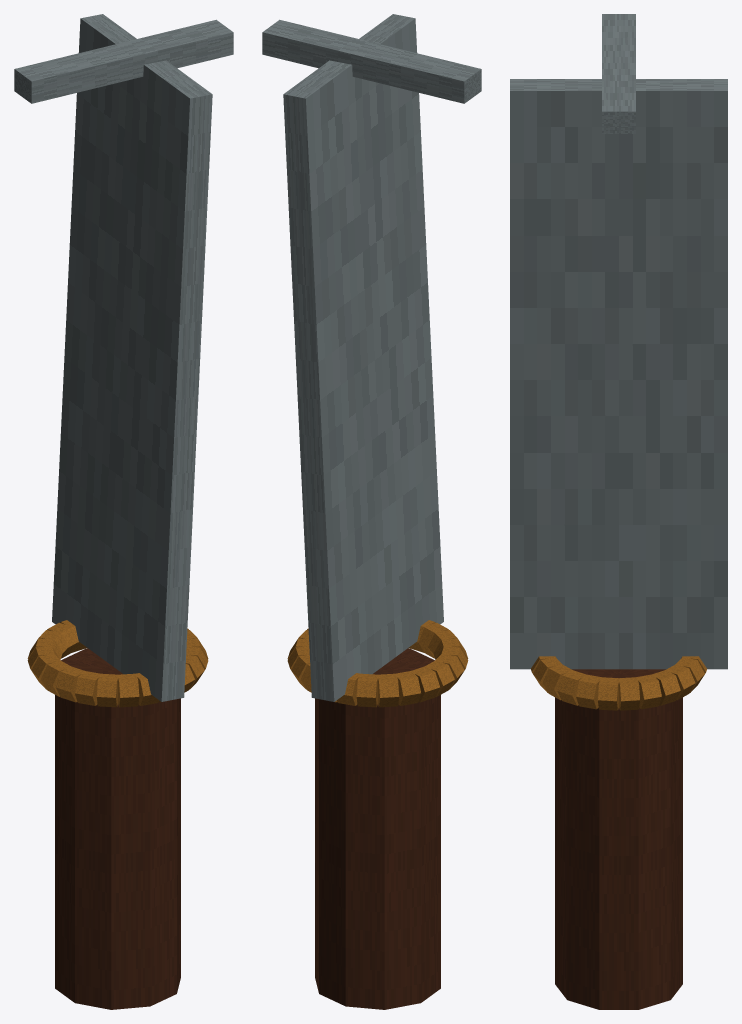
File: SM_iron_cleaver.gltf
3 renders of one model, left to right at view 1: azimuth 30°, elevation 25°; view 2: azimuth 150°, elevation 25°; view 3: azimuth 270°, elevation 25°, orthographic.
Parts seen in each view (by area): view 1: root; view 2: root; view 3: root.
Part boxes in pixels (bbox=[...]): root: bbox=[14, 14, 233, 1009]; root: bbox=[262, 14, 481, 1009]; root: bbox=[510, 14, 727, 1009].
Bounding box in the file's own units: 0.17 × 0.749 × 0.16.
3 materials, 3 textured.
